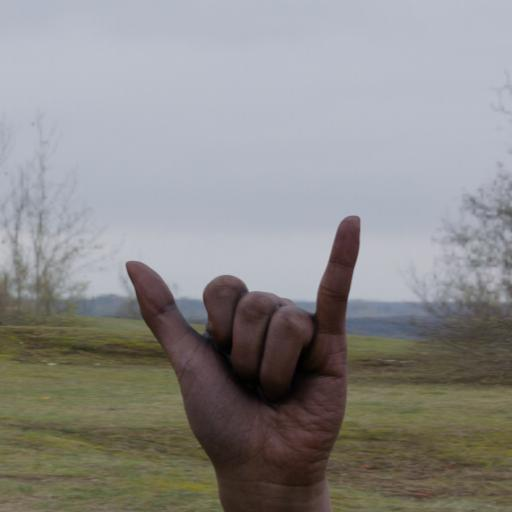Y: (112, 209, 370, 512)
